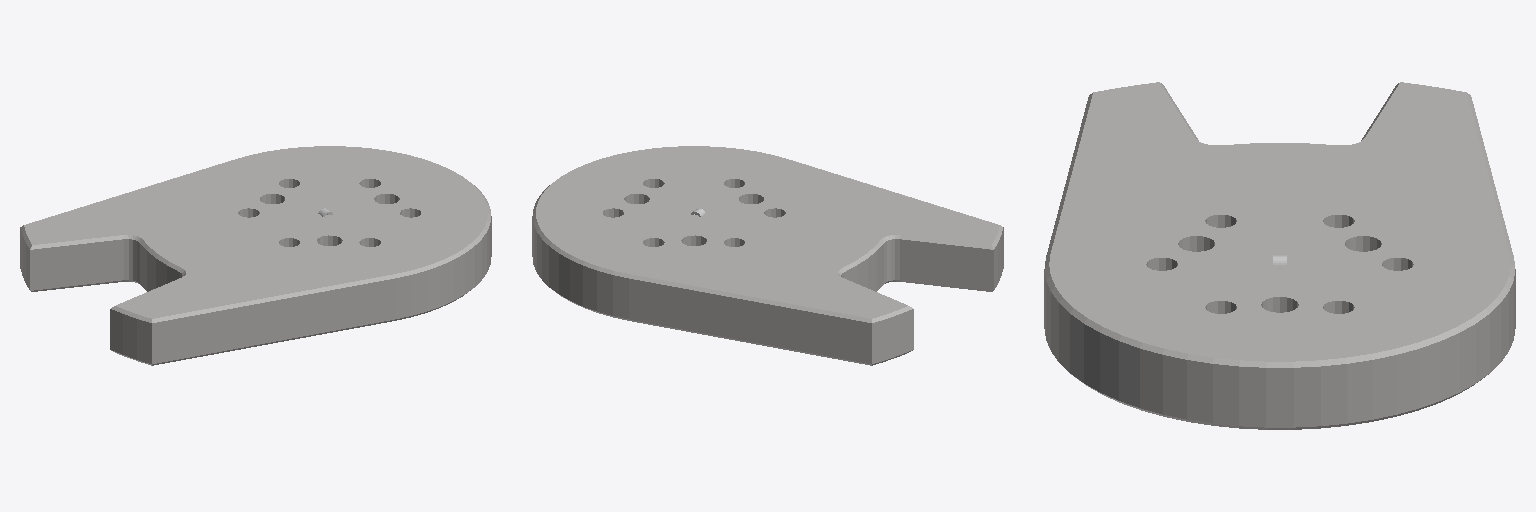
robot.urdf — ai_car1:
<?xml version="1.0"?>
<robot name="ai_car1">

  <!-- ========== Chassis ========== -->
  <link name="chassis">
    <inertial>
      <mass value="40.0"/>
      <inertia ixx="1.73333" iyy="4.56667" izz="4.56667" ixy="0" ixz="0" iyz="0"/>
    </inertial>
    <visual>
      <geometry>
        <mesh filename="package://simulator/models/ai_car1/meshes/AIF_body.dae"/>
      </geometry>
    </visual>
    <collision>
      <geometry>
        <mesh filename="package://simulator/models/ai_car1/meshes/AIF_body.dae"/>
      </geometry>
    </collision>
  </link>

  <!-- ========== Motor Assembly ========== -->
  <link name="motor">
    <inertial>
      <mass value="7.0"/>
      <inertia ixx="0.04778" iyy="0.04778" izz="0.07875" ixy="0" ixz="0" iyz="0"/>
    </inertial>
    <visual>
      <geometry>
        <mesh filename="package://simulator/models/ai_car1/meshes/motor.dae">
	  <scale>0.001 0.001 0.001</scale>
	</mesh>
      </geometry>
    </visual>
    <collision>
      <geometry>
        <mesh filename="package://simulator/models/ai_car1/meshes/motor.dae">
	  <scale>0.001 0.001 0.001</scale>
	</mesh>
      </geometry>
    </collision>
  </link>

  <joint name="motor_joint" type="fixed">
    <parent link="chassis"/>
    <child link="motor"/>
    <origin xyz="0.7 0 0.33" rpy="0 0 0"/>
  </joint>

  <link name="motor_spin">
    <inertial>
      <mass value="7.0"/>
      <inertia ixx="0.04778" iyy="0.04778" izz="0.07875" ixy="0" ixz="0" iyz="0"/>
    </inertial>
    <visual>
      <geometry>
        <mesh filename="package://simulator/models/ai_car1/meshes/motor_spin.dae">
	  <scale>1 1 1</scale>
        </mesh>
      </geometry>
    </visual>
    <collision>
      <geometry>
	<mesh filename="package://simulator/models/ai_car1/meshes/motor_spin.dae">
	  <scale>1 1 1</scale>
	</mesh>
      </geometry>
    </collision>
  </link>

  <joint name="motor_spin_joint" type="revolute">
    <parent link="motor"/>
    <child link="motor_spin"/>
    <origin xyz="0 0 0.022" rpy="0 0 0"/>
    <axis xyz="0 0 1"/>
    <limit lower="-6.283" upper="6.283" effort="1.0" velocity="5.0"/>
    <dynamics friction="0.1" damping="0.0"/>
  </joint>

  <!-- ========== Left Wheel ========== -->
  <link name="left_wheel">
    <inertial>
      <mass value="7.0"/>
      <inertia ixx="0.04778" iyy="0.04778" izz="0.07875" ixy="0" ixz="0" iyz="0"/>
    </inertial>
    <visual>
      <geometry>
        <mesh filename="package://simulator/models/ai_car1/meshes/tire.dae"/>
      </geometry>
    </visual>
    <collision>
      <geometry>
        <mesh filename="package://simulator/models/ai_car1/meshes/tire.dae"/>
      </geometry>
    </collision>
  </link>

  <joint name="left_wheel_joint" type="revolute">
    <parent link="chassis"/>
    <child link="left_wheel"/>
    <origin xyz="0 -0.3 0" rpy="1.57 0 1.57"/>
    <axis xyz="0 1 0"/>
    <limit lower="-1000000" upper="1000000" effort="9.4" velocity="1000"/>
    <dynamics friction="0.9" damping="0.0"/>
  </joint>

  <!-- ========== Right Wheel ========== -->
  <link name="right_wheel">
    <inertial>
      <mass value="7.0"/>
      <inertia ixx="0.04778" iyy="0.04778" izz="0.07875" ixy="0" ixz="0" iyz="0"/>
    </inertial>
    <visual>
      <geometry>
        <mesh filename="package://simulator/models/ai_car1/meshes/tire.dae"/>
      </geometry>
    </visual>
    <collision>
      <geometry>
        <mesh filename="package://simulator/models/ai_car1/meshes/tire.dae"/>
      </geometry>
    </collision>
  </link>

  <joint name="right_wheel_joint" type="revolute">
    <parent link="chassis"/>
    <child link="right_wheel"/>
    <origin xyz="0 0.3 0" rpy="1.57 0 1.57"/>
    <axis xyz="0 1 0"/>
    <limit lower="-1000000" upper="1000000" effort="9.4" velocity="1000"/>
    <dynamics friction="0.9" damping="0.0"/>
  </joint>

  <!-- ========== Caster Assembly ========== -->
  <link name="caster_yaw">
    <inertial>
      <mass value="5.0"/>
      <inertia ixx="0.001" iyy="0.001" izz="0.001" ixy="0" ixz="0" iyz="0"/>
    </inertial>
  </link>

  <joint name="caster_yaw_wheel" type="revolute">
    <parent link="chassis"/>
    <child link="caster_yaw"/>
    <origin xyz="0.8 0 0.25" rpy="0 0 -1.57"/>
    <axis xyz="0 0 1"/>
    <limit lower="-0.26" upper="0.26" effort="1.0" velocity="1.0"/>
  </joint>

  <link name="caster">
    <inertial>
      <mass value="1.0"/>
      <inertia ixx="0.04778" iyy="0.04778" izz="0.07875" ixy="0" ixz="0" iyz="0"/>
    </inertial>
  </link>

  <joint name="caster_pitch_joint" type="revolute">
    <parent link="caster_yaw"/>
    <child link="caster"/>
    <origin xyz="0.1 0 -0.25" rpy="0 0 1.57"/>
    <axis xyz="0 1 0"/>
    <limit lower="-3.14" upper="3.14" effort="1.0" velocity="1.0"/>
  </joint>

  <!-- ========== Sensors ========== -->
  <link name="imu_link"/>
  <joint name="imu_joint" type="fixed">
    <parent link="chassis"/>
    <child link="imu_link"/>
    <origin xyz="-0.032 0 0.068" rpy="0 0 0"/>
  </joint>

  <link name="camera_link"/>
  <joint name="camera_joint" type="fixed">
    <parent link="chassis"/>
    <child link="camera_link"/>
    <origin xyz="0.35 0 0.55" rpy="0 0 0"/>
  </joint>

  <link name="camera_rgb_link"/>
  <joint name="camera_rgb_joint" type="fixed">
    <parent link="camera_link"/>
    <child link="camera_rgb_link"/>
  </joint>

  <link name="camera_depth_link"/>
  <joint name="camera_depth_joint" type="fixed">
    <parent link="camera_link"/>
    <child link="camera_depth_link"/>
  </joint>

  <link name="gps_link"/>
  <joint name="gps_joint" type="fixed">
    <parent link="chassis"/>
    <child link="gps_link"/>
  </joint>

  <!-- ========== Gazebo Plugins ========== -->
  <plugin filename="libignition-gazebo-diff-drive-system.so" name="ignition::gazebo::systems::DiffDrive">
    <left_joint>left_wheel_joint</left_joint>
    <right_joint>right_wheel_joint</right_joint>
    <wheel_separation>0.6</wheel_separation>
    <wheel_radius>0.124</wheel_radius>
    <odom_publish_frequency>30</odom_publish_frequency>
    <topic>cmd_vel</topic>
    <odom_topic>odom</odom_topic>
  </plugin>

  <plugin filename="libignition-gazebo-imu-system.so" name="ignition::gazebo::systems::Imu"/>
  <plugin filename="ignition-gazebo-sensors-system" name="ignition::gazebo::systems::Sensors"/>


</robot>

--- Render facts (derived) ---
The picture shows the robot from 3 angles, left to right: view 1: azimuth 30°, elevation 25°; view 2: azimuth 150°, elevation 25°; view 3: azimuth 270°, elevation 25°; orthographic projection.
Model ai_car1 with 12 links and 11 joints (5 revolute, 6 fixed), rooted at chassis, posed all joints at 0.
Links seen in each view (by area): view 1: motor_spin; view 2: motor_spin; view 3: motor_spin.
Link boxes in pixels (x1,y1,x2,y2): motor_spin: (20, 146, 491, 365); motor_spin: (532, 146, 1003, 365); motor_spin: (1044, 82, 1515, 429).
Bounding box of the posed robot: 71.32 × 50 × 8.65 m (x, y, z).
3 mesh visuals loaded from 4 distinct referenced files (2 Collada DAE); not drawn: 2 (reference not matched to a file when rendering).
